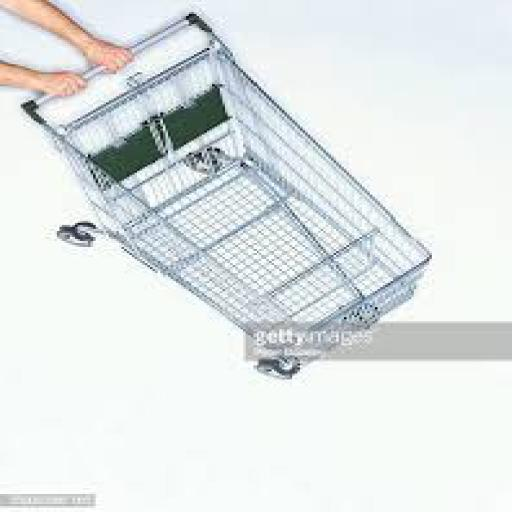shopping_cart: (18, 11, 438, 383)
